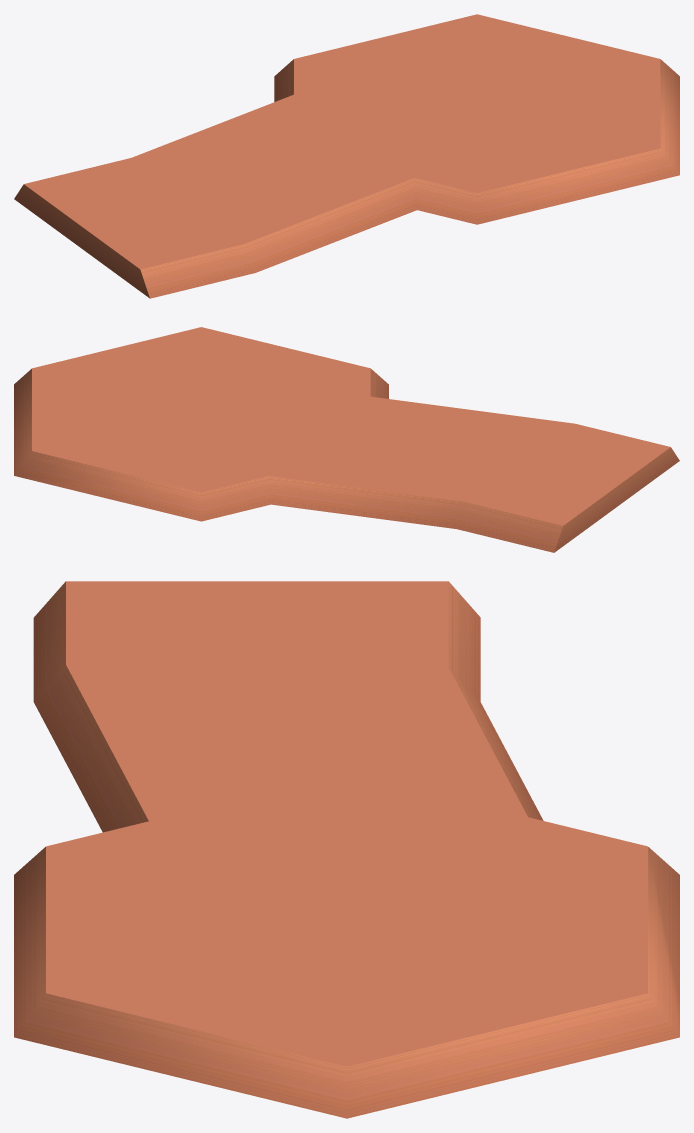
The model's file is path-start.glb.
The picture shows the model from 3 angles, top to bottom: view 1: azimuth 30°, elevation 25°; view 2: azimuth 150°, elevation 25°; view 3: azimuth 270°, elevation 25°; orthographic projection. The views are drawn at different scales.
Visible parts, largest first — view 1: path-start; view 2: path-start; view 3: path-start.
Boxes of the visible parts, x1,y1,x2,y2 form: path-start: (14, 14, 679, 298); path-start: (14, 327, 679, 552); path-start: (14, 581, 679, 1118).
Bounding box in the file's own units: 0.74 × 0.025 × 0.4157.
1 material, 1 textured.
